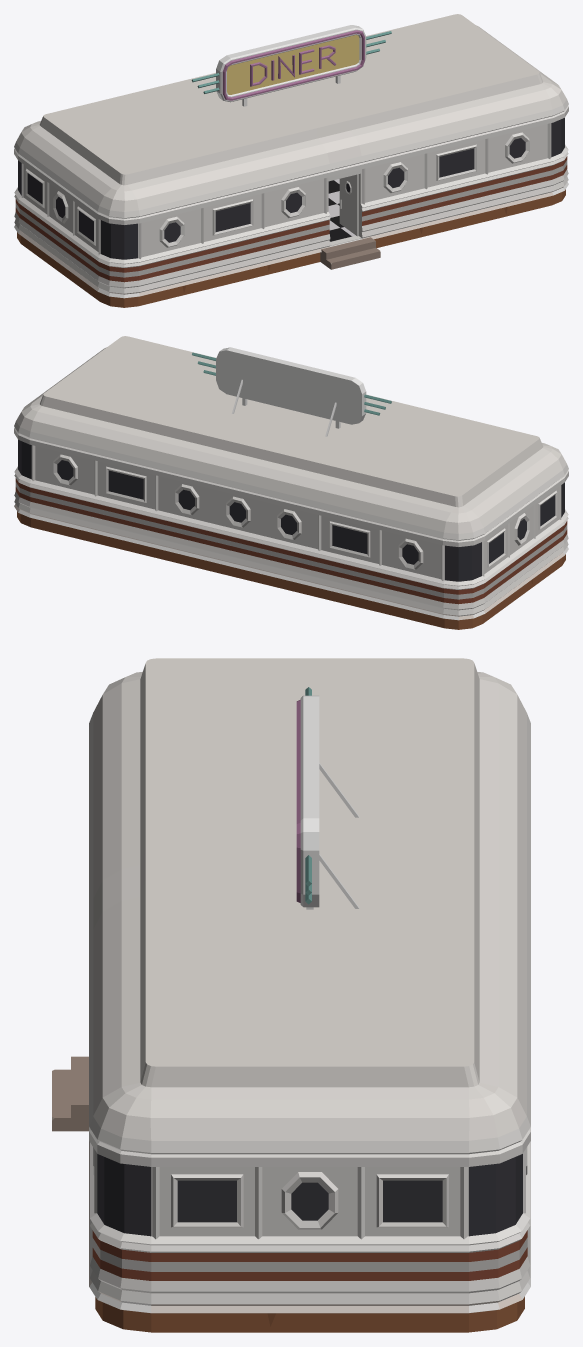
File: streamline-diner-car-de9777.glb
3 views of the same model, one above another, from view 1: azimuth 30°, elevation 25°; view 2: azimuth 150°, elevation 25°; view 3: azimuth 270°, elevation 25° (orthographic). The views are drawn at different scales.
Parts seen in each view (by area): view 1: diner-car, door-leaf; view 2: diner-car; view 3: diner-car.
Boxes of the visible parts, box(x1,y1,x2,y2) form: diner-car: box(14, 14, 568, 307); door-leaf: box(339, 174, 358, 236); diner-car: box(14, 336, 568, 629); diner-car: box(52, 658, 530, 1332).
Size of the model in its own units: 16 by 5.72 by 7.1.
